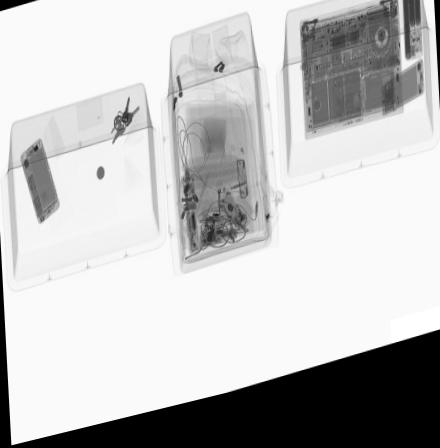Powerbank: (402, 4, 424, 82)
